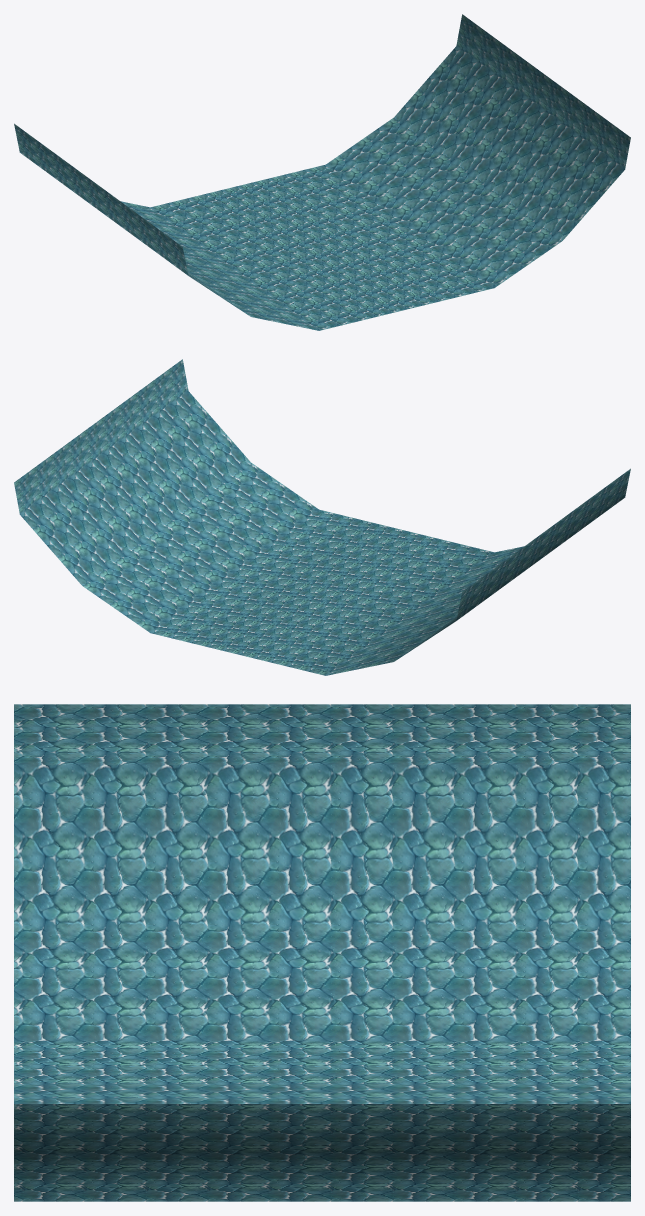
3 views of the same model, one above another, from view 1: azimuth 30°, elevation 25°; view 2: azimuth 150°, elevation 25°; view 3: azimuth 270°, elevation 25° (orthographic). The views are drawn at different scales.
Parts seen in each view (by area): view 1: Plane001; view 2: Plane001; view 3: Plane001.
Part boxes in pixels (x1,y1,x2,y2): Plane001: (14,14,630,330); Plane001: (14,359,630,675); Plane001: (14,704,630,1201).
Bounding box in the file's own units: 90.55 × 22.64 × 59.06.
Materials: 1 (1 with a texture image).
